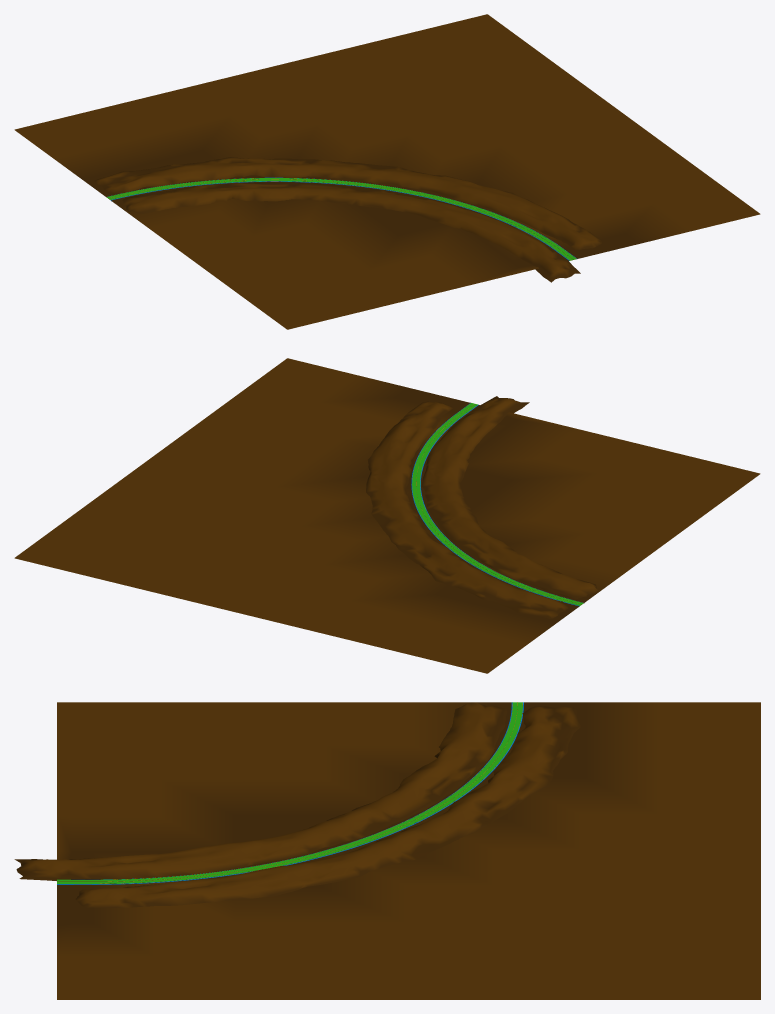
File: block_highway_turn_in_col.fbx
3 renders of one model, top to bottom at view 1: azimuth 30°, elevation 25°; view 2: azimuth 150°, elevation 25°; view 3: azimuth 270°, elevation 25°, orthographic. The views are drawn at different scales.
Parts seen in each view (by area): view 1: block_highway_turn_in_col; view 2: block_highway_turn_in_col; view 3: block_highway_turn_in_col.
Boxes of the visible parts, <box> form: block_highway_turn_in_col: <box>14,14,760,329</box>; block_highway_turn_in_col: <box>14,358,760,673</box>; block_highway_turn_in_col: <box>14,702,760,999</box>.
Bounding box in the file's own units: 2500 × 45.85 × 2653.
